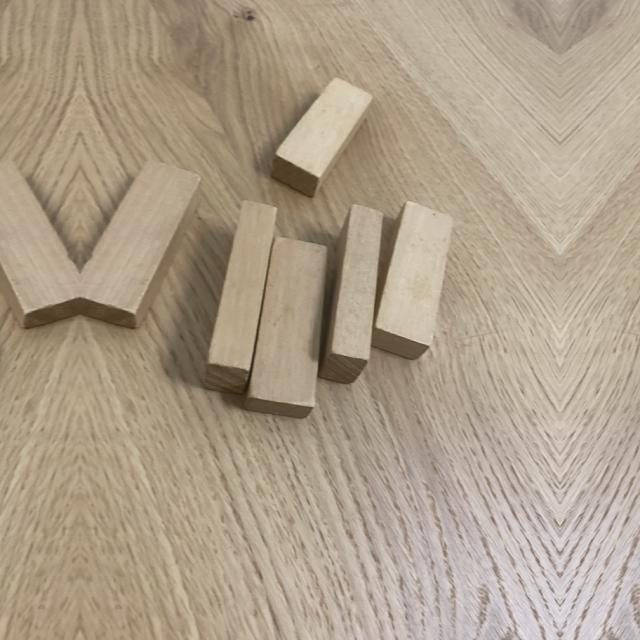jenga: (80, 158, 204, 332), (244, 236, 328, 420), (0, 158, 80, 332), (207, 201, 278, 396), (372, 202, 454, 362), (272, 79, 373, 200), (320, 204, 384, 386)
